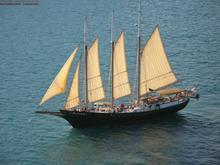fanchuan: (32, 4, 200, 128)
